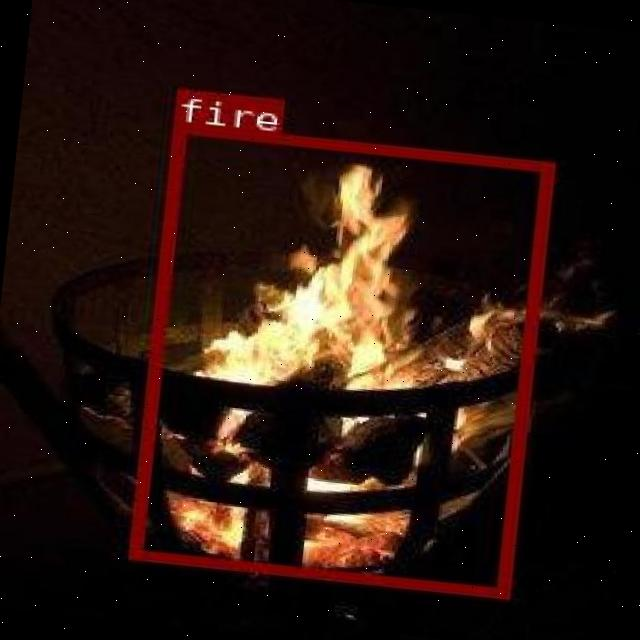fire: (127, 120, 553, 596)
